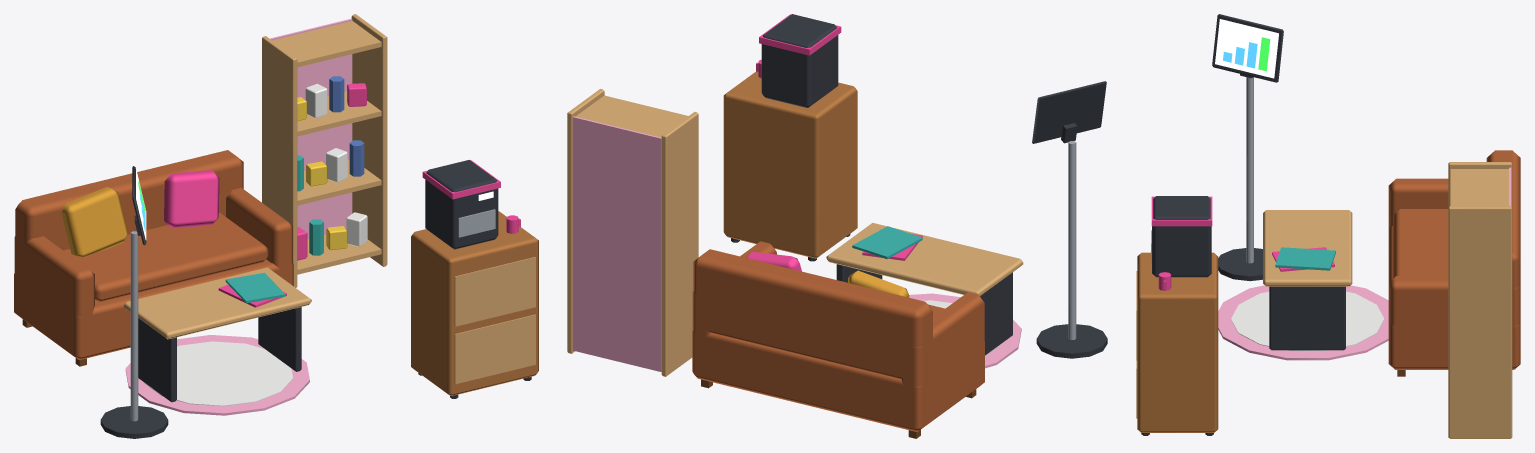
File: station_special_1.glb
3 views of the same model, side by side, from view 1: azimuth 30°, elevation 25°; view 2: azimuth 150°, elevation 25°; view 3: azimuth 270°, elevation 25° (orthographic). The views are drawn at different scales.
Parts seen in each view (by area): view 1: station_special_1; view 2: station_special_1; view 3: station_special_1.
Boxes of the visible parts, box(x1,y1,x2,y2) form: station_special_1: box(14, 14, 538, 438); station_special_1: box(567, 14, 1107, 438); station_special_1: box(1136, 14, 1520, 438).
Size of the model in its own units: 2.08 by 1.27 by 1.8.
